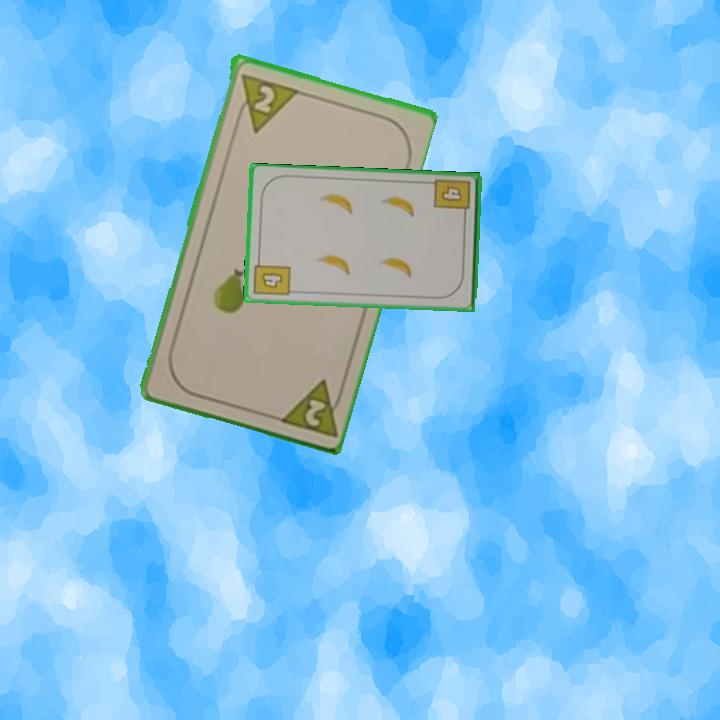2p: (273, 374, 347, 440), (230, 69, 299, 135)
4b: (250, 254, 293, 299), (431, 176, 474, 221)
